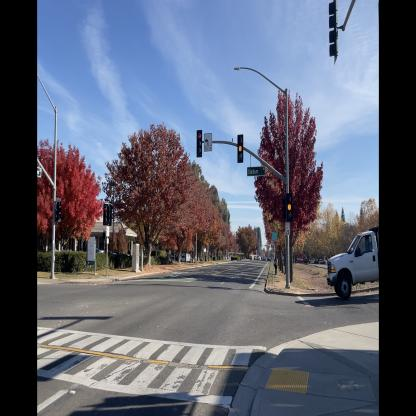left-red: (196, 128, 203, 160), (103, 202, 109, 226)
yellow: (237, 133, 244, 164), (286, 192, 293, 223)
